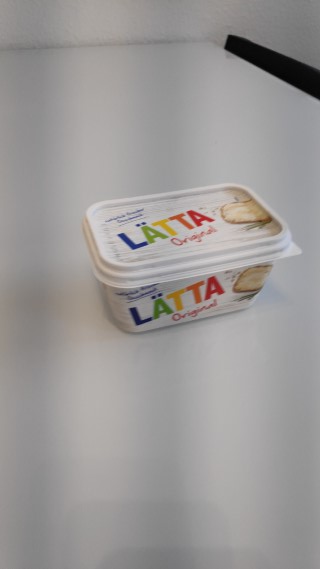laetta: (81, 183, 301, 333)
